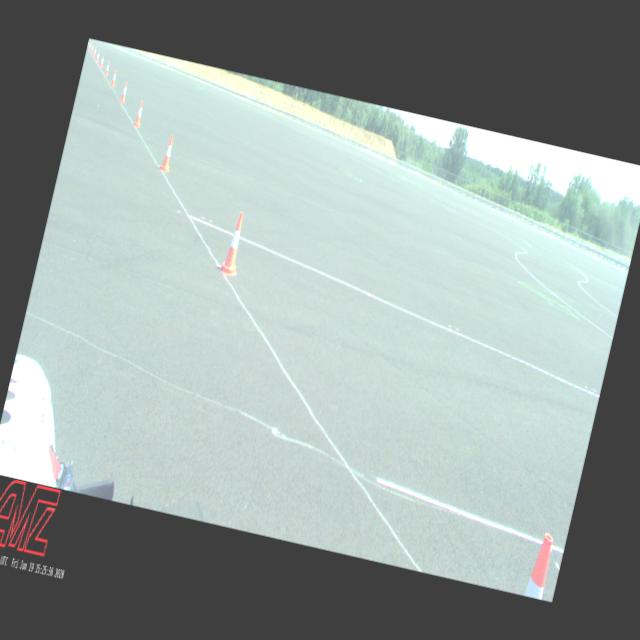orange_cone: (524, 532, 556, 600), (218, 210, 250, 276), (159, 132, 177, 172), (133, 100, 145, 126), (119, 80, 129, 102), (110, 69, 118, 86), (103, 61, 110, 76), (98, 54, 105, 68), (94, 50, 100, 62), (92, 46, 97, 58), (88, 41, 92, 50), (90, 44, 94, 52), (87, 40, 90, 48)
